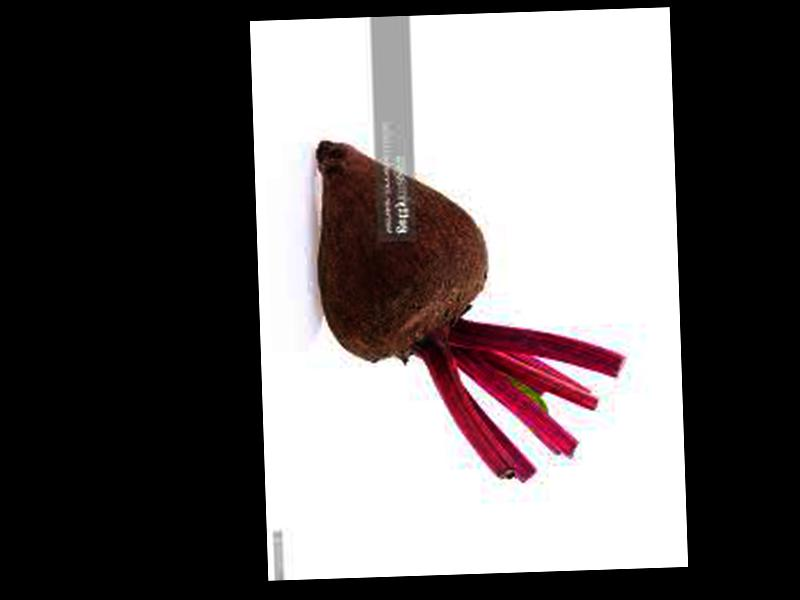Beet: (315, 131, 627, 488)
